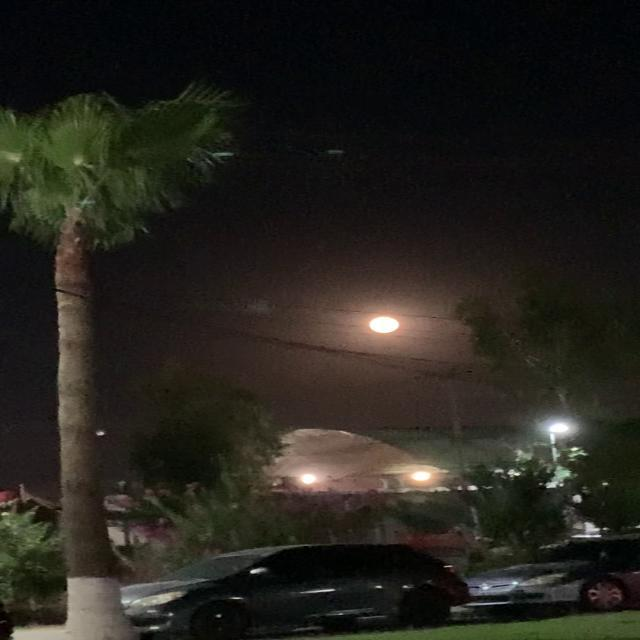moon: (360, 310, 412, 336)
